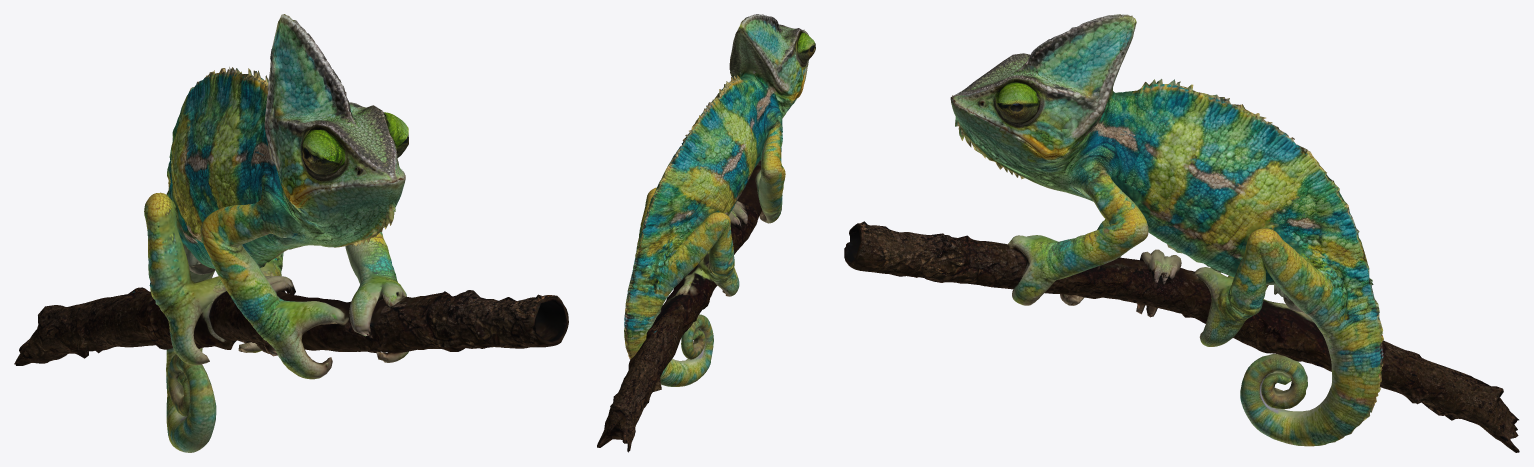
Rendered from chameleon.glb.
The picture shows the model from 3 angles, left to right: view 1: azimuth 30°, elevation 25°; view 2: azimuth 150°, elevation 25°; view 3: azimuth 270°, elevation 25°; orthographic projection. The views are drawn at different scales.
Visible parts, largest first — view 1: tripo_node_9c33e356-b696-4c5f-ae00-29f4d5be9e24; view 2: tripo_node_9c33e356-b696-4c5f-ae00-29f4d5be9e24; view 3: tripo_node_9c33e356-b696-4c5f-ae00-29f4d5be9e24.
Boxes of the visible parts, x1=… form: tripo_node_9c33e356-b696-4c5f-ae00-29f4d5be9e24: x1=14, y1=14, x2=568, y2=452; tripo_node_9c33e356-b696-4c5f-ae00-29f4d5be9e24: x1=597, y1=14, x2=815, y2=452; tripo_node_9c33e356-b696-4c5f-ae00-29f4d5be9e24: x1=844, y1=14, x2=1519, y2=452.
Bounding box in the file's own units: 0.2857 × 0.7005 × 0.9794.
Materials: 1 (1 with a texture image).
